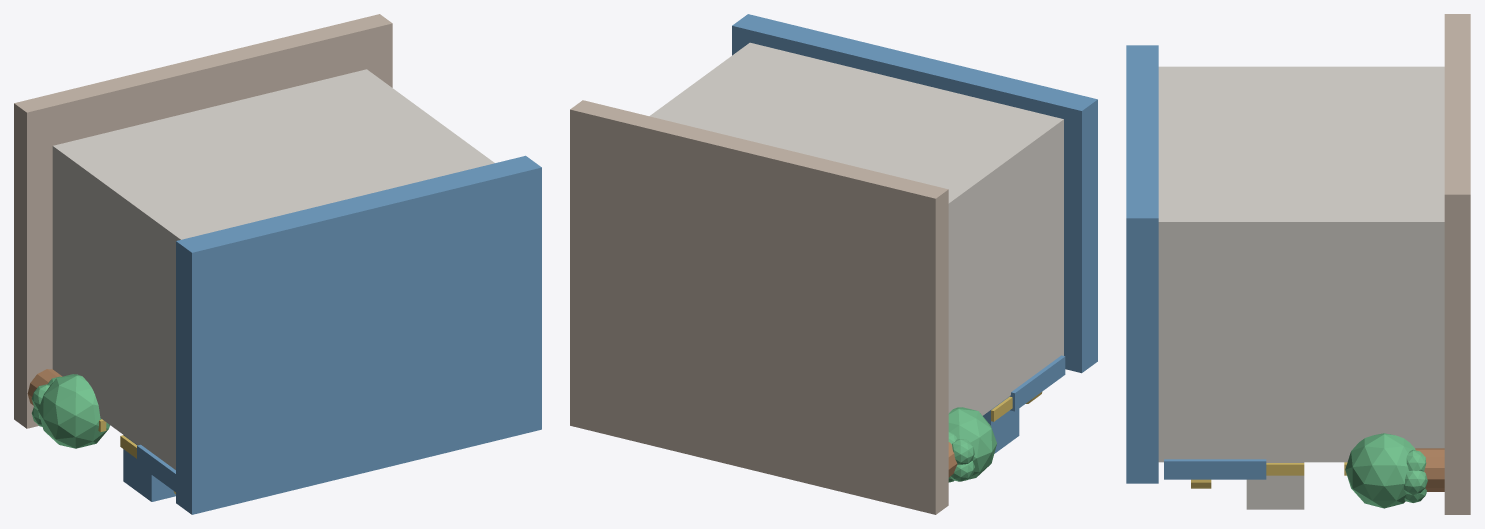
The model's file is sale_lod1.glb.
The picture shows the model from 3 angles, left to right: view 1: azimuth 30°, elevation 25°; view 2: azimuth 150°, elevation 25°; view 3: azimuth 270°, elevation 25°; orthographic projection.
Visible parts, largest first — view 1: roof_2, walls_1, plinth_0, plant_20, awning_5, signboard_3; view 2: plinth_0, walls_1, roof_2, plant_20, signboard_3, awning_5; view 3: walls_1, roof_2, plinth_0, plant_22, signboard_3, awning_12, planter_21, detail_window_trim_5, detail_foliage_28.
Boxes of the visible parts, x1=… form: roof_2: x1=176, y1=155, x2=541, y2=514; walls_1: x1=52, y1=69, x2=494, y2=469; plinth_0: x1=14, y1=14, x2=392, y2=428; plant_20: x1=38, y1=374, x2=110, y2=448; awning_5: x1=123, y1=435, x2=175, y2=501; signboard_3: x1=137, y1=444, x2=175, y2=492; plinth_0: x1=570, y1=100, x2=948, y2=514; walls_1: x1=649, y1=42, x2=1063, y2=415; roof_2: x1=732, y1=14, x2=1097, y2=373; plant_20: x1=948, y1=407, x2=996, y2=481; signboard_3: x1=1009, y1=355, x2=1065, y2=411; awning_5: x1=983, y1=396, x2=1019, y2=453; walls_1: x1=1158, y1=66, x2=1444, y2=462; roof_2: x1=1126, y1=45, x2=1158, y2=483; plinth_0: x1=1444, y1=14, x2=1470, y2=514; plant_22: x1=1345, y1=433, x2=1415, y2=508; signboard_3: x1=1164, y1=459, x2=1266, y2=479; awning_12: x1=1246, y1=462, x2=1304, y2=509; planter_21: x1=1415, y1=448, x2=1444, y2=491; detail_window_trim_5: x1=1266, y1=463, x2=1304, y2=475; detail_foliage_28: x1=1404, y1=470, x2=1427, y2=495.
Size of the model in its own units: 4.94 by 3.9 by 3.7.
